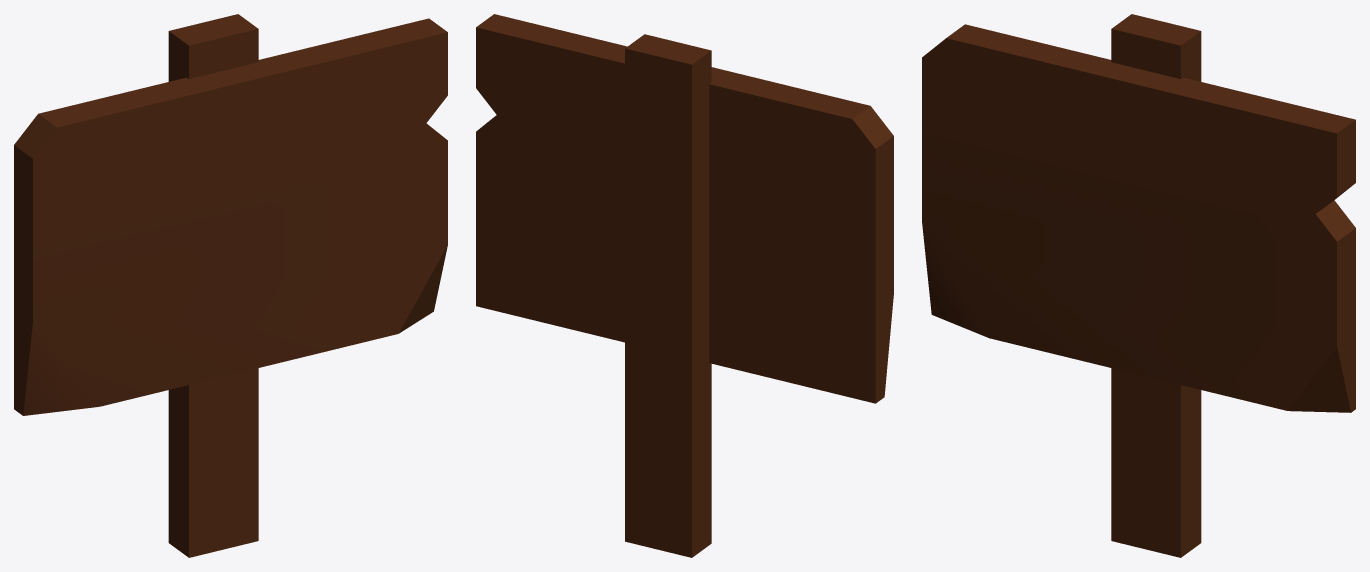
File: sign.fbx
3 renders of one model, left to right at view 1: azimuth 30°, elevation 25°; view 2: azimuth 150°, elevation 25°; view 3: azimuth 330°, elevation 25°, orthographic. The views are drawn at different scales.
Parts seen in each view (by area): view 1: sign; view 2: sign; view 3: sign.
Part boxes in pixels (x1,y1,x2,y2): sign: (14,14,447,557); sign: (476,14,893,557); sign: (922,14,1355,557).
Bounding box in the file's own units: 1.85 × 2.18 × 0.2848.
